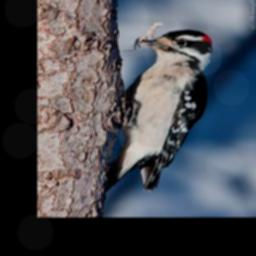Woodpecker: (108, 29, 213, 191)
